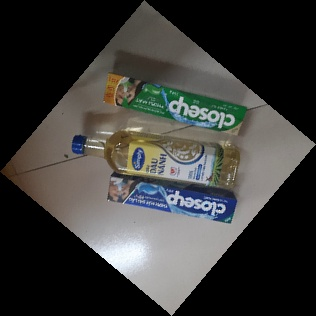CloseUp Tuyet: (107, 172, 238, 226)
CloseUp Xanh: (104, 72, 248, 138)
Simply: (72, 130, 243, 189)
